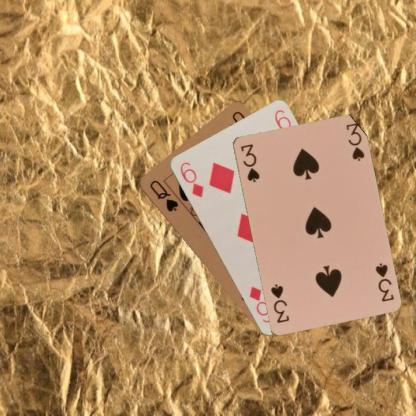3s: (372, 260, 395, 303), (238, 141, 260, 184)
6d: (177, 159, 204, 199)
Qs: (147, 178, 179, 214)
